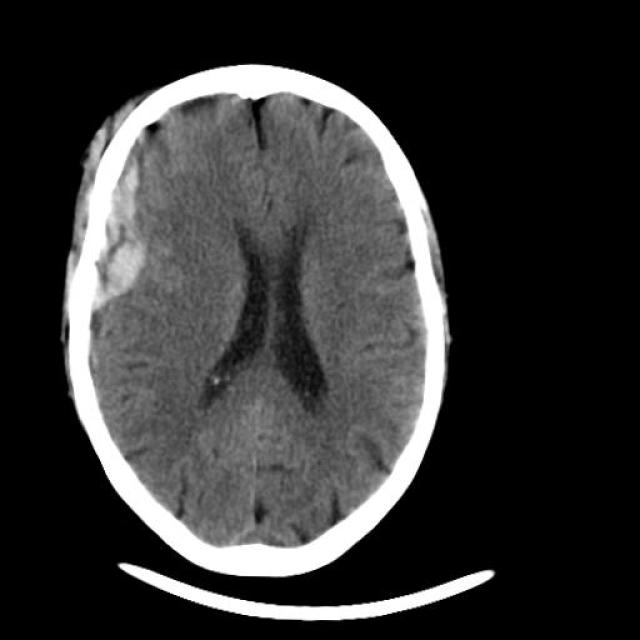Subdural: (64, 106, 190, 316)
